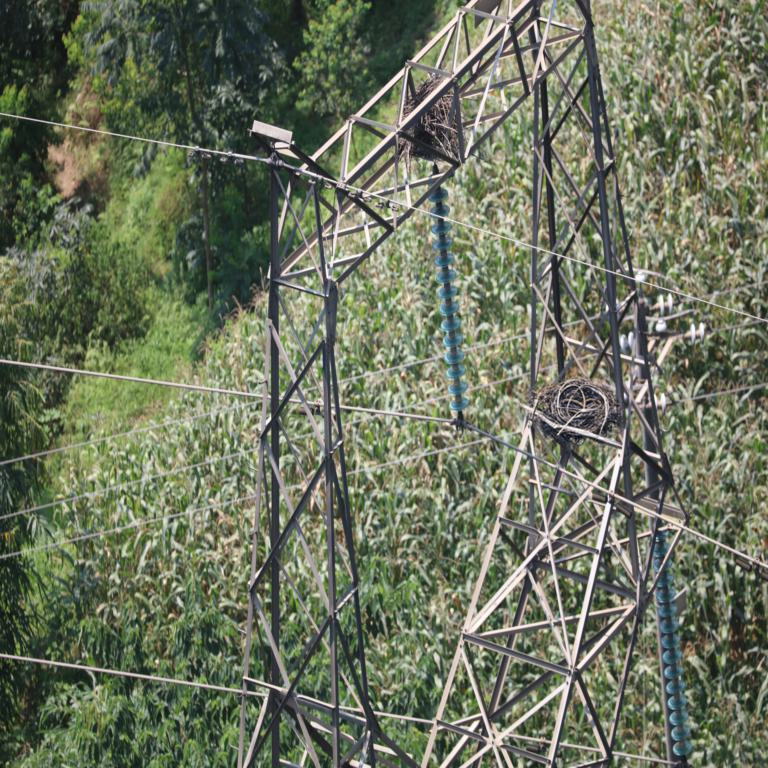nest: (400, 75, 463, 162), (540, 379, 623, 437)
